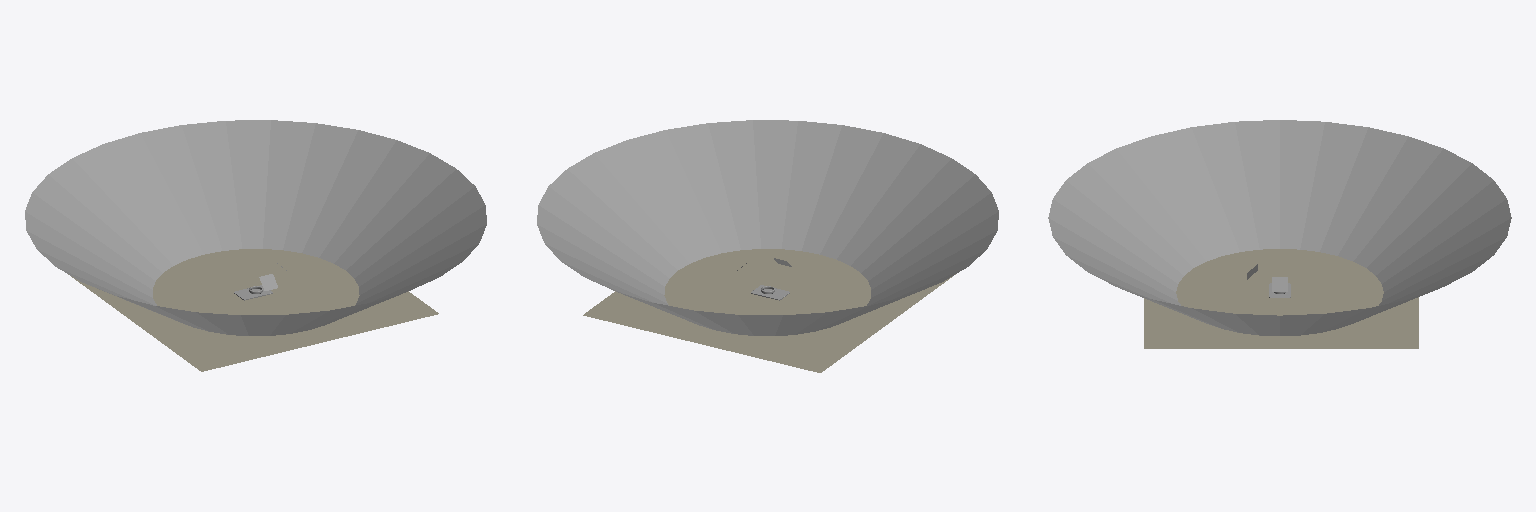
Rendered from Ring_27.obj.
3 views of the same model, side by side, from view 1: azimuth 30°, elevation 25°; view 2: azimuth 150°, elevation 25°; view 3: azimuth 270°, elevation 25° (orthographic).
Parts seen in each view (by area): view 1: boden, Plane; view 2: boden, Plane; view 3: boden, Plane.
Boxes of the visible parts, box(x1,y1,x2,y2) form: boden: box(25, 120, 486, 335); Plane: box(68, 249, 438, 371); boden: box(537, 120, 998, 335); Plane: box(583, 249, 955, 372); boden: box(1048, 120, 1511, 335); Plane: box(1144, 249, 1418, 348).
Size of the model in its own units: 57.51 by 10.48 by 57.51.